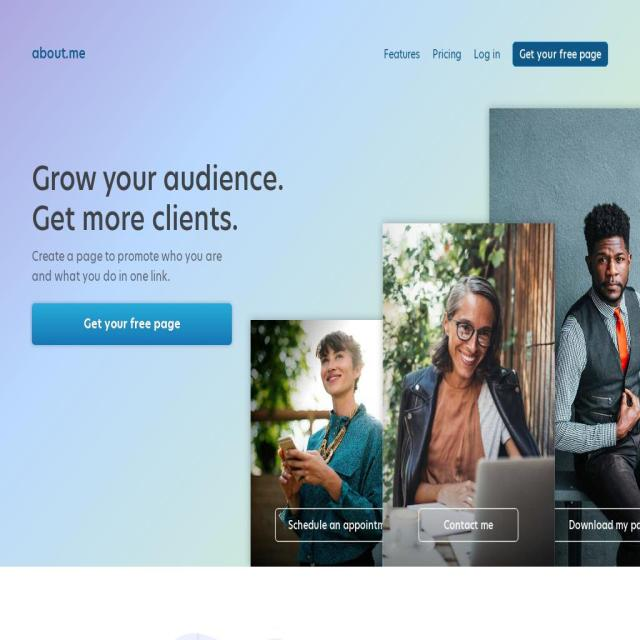button: (32, 303, 232, 345), (274, 508, 412, 542), (537, 508, 640, 542), (418, 508, 519, 542), (512, 42, 608, 66)
heading: (32, 155, 284, 202), (32, 195, 239, 242), (32, 247, 222, 266), (31, 266, 170, 286)
image: (114, 625, 314, 640)
link: (383, 46, 420, 62), (432, 46, 461, 62), (473, 46, 500, 62)
text: (83, 314, 181, 334), (288, 517, 400, 533), (568, 517, 640, 533), (32, 44, 86, 62), (444, 517, 494, 533)
